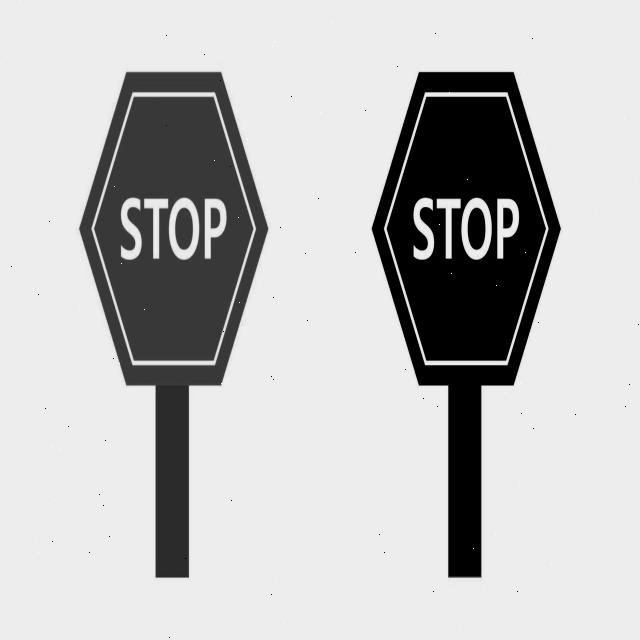Stop-sign: (70, 53, 271, 393)
